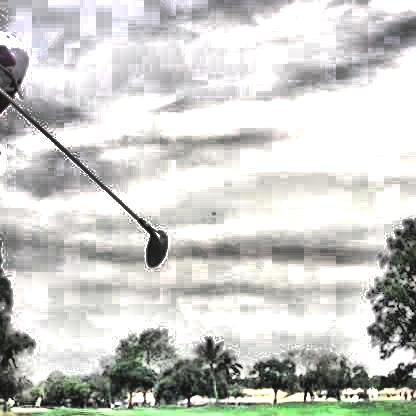golfball: (205, 206, 212, 213)
